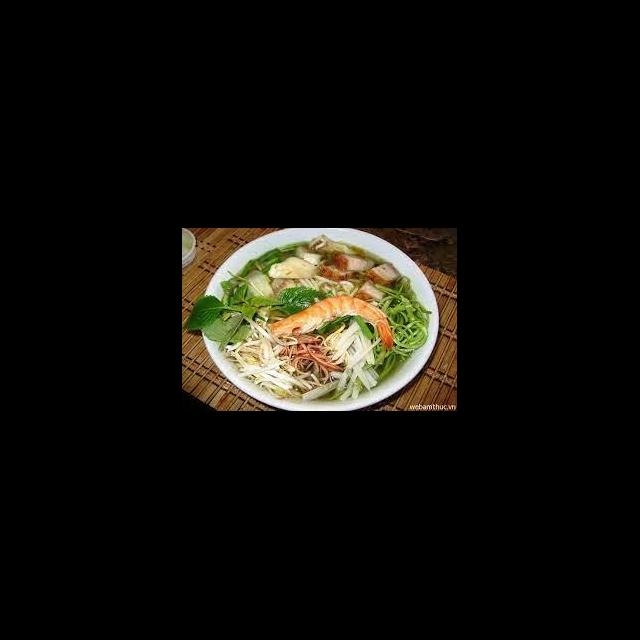bun: (329, 316, 382, 404)
ca: (266, 254, 322, 282), (264, 276, 302, 302)
thit heo quay: (332, 250, 379, 274), (318, 262, 364, 284), (366, 260, 402, 286)
tom: (266, 292, 396, 356)
